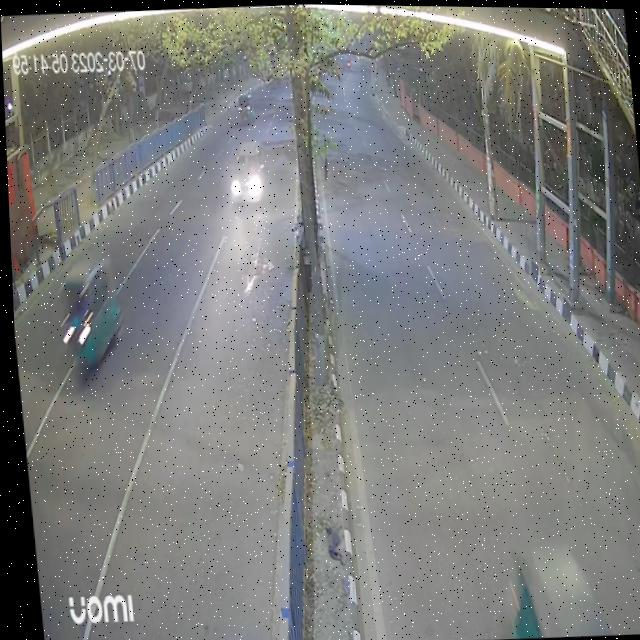cng: (49, 246, 125, 388)
